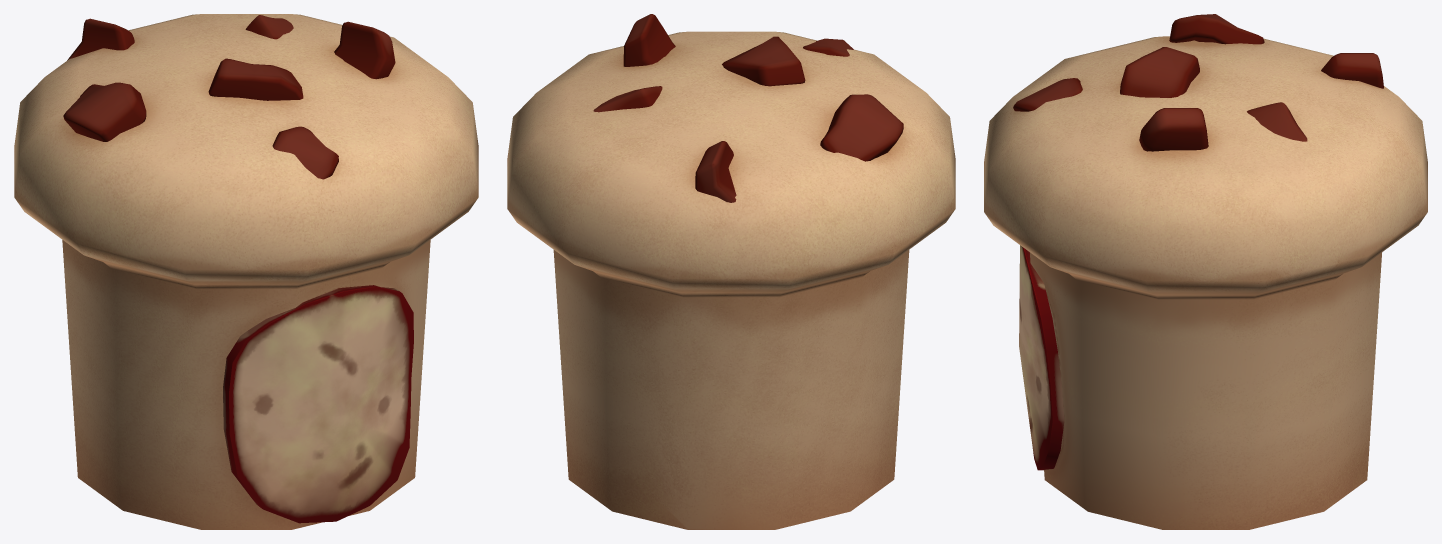
The model's file is Mod_House.gltf.
3 views of the same model, side by side, from view 1: azimuth 30°, elevation 25°; view 2: azimuth 150°, elevation 25°; view 3: azimuth 270°, elevation 25° (orthographic). The views are drawn at different scales.
Visible parts, largest first — view 1: House; view 2: House; view 3: House.
Part boxes in pixels (left/top/right/bottom): House: left=14, top=14, right=478, bottom=529; House: left=507, top=14, right=955, bottom=529; House: left=984, top=14, right=1427, bottom=529.
Bounding box in the file's own units: 6.84 × 6.84 × 6.84.
Materials: 1 (1 with a texture image).
